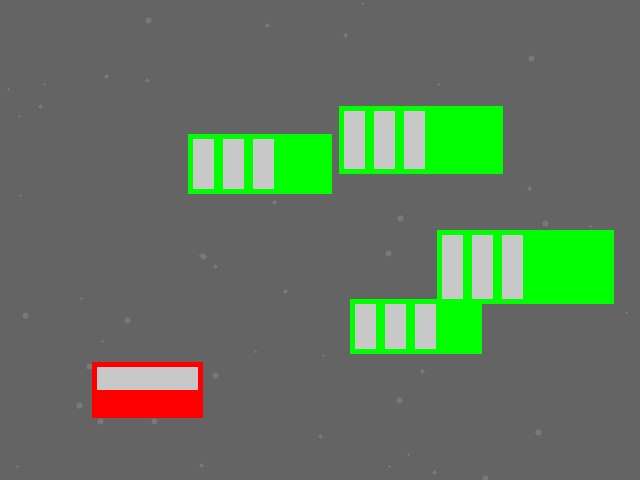bus: (437, 230, 613, 303), (339, 106, 502, 173), (188, 134, 331, 193), (350, 299, 481, 353)
car: (92, 362, 202, 417)
